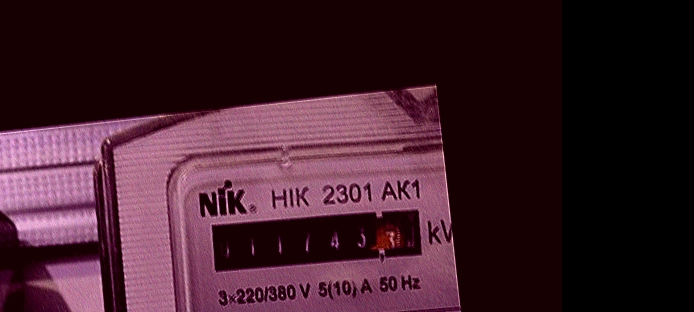0: (217, 232, 234, 261)
1: (244, 230, 261, 259), (272, 228, 288, 257)
3: (353, 223, 369, 251), (383, 229, 400, 252)
4: (327, 227, 343, 253)
7: (299, 228, 315, 254)
screen: (202, 197, 434, 285)
